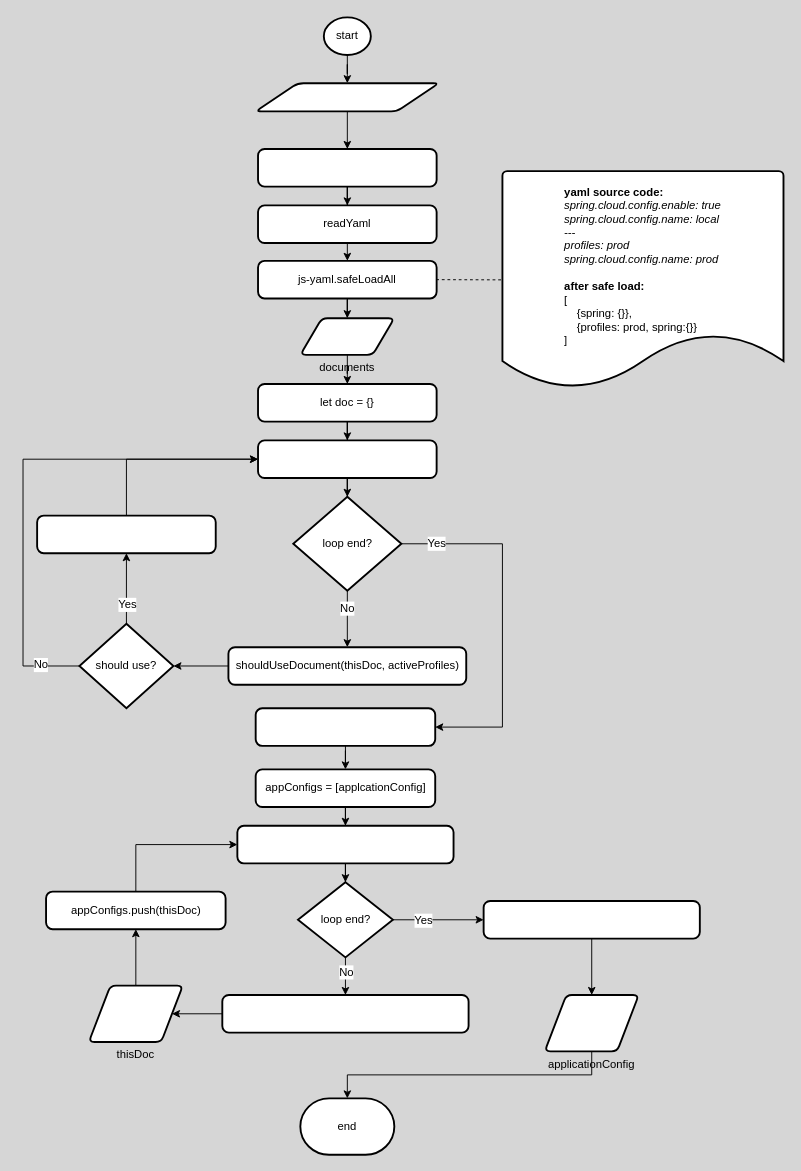
Some shapes in this 801 by 1171 pixel diagram are drawn without their labels. Here are the shapes that lost their labels. From the top down, the box of each, then its label:
(254, 82, 439, 112): (application.yml, activeProfiles)
(257, 148, 437, 187): readYamlAsDocument
(257, 439, 437, 478): for(const thisDoc of documents)
(36, 514, 216, 554): extend(true, doc, thisDoc)
(254, 707, 436, 746): applicationConfig = doc
(236, 824, 454, 864): for(const activeProfile of activeProfiles)
(482, 900, 700, 939): applicationConfig = mergeProperties(appConfigs)
(221, 994, 469, 1033): yaml.safeLoad(application-activeProfile.yml)
